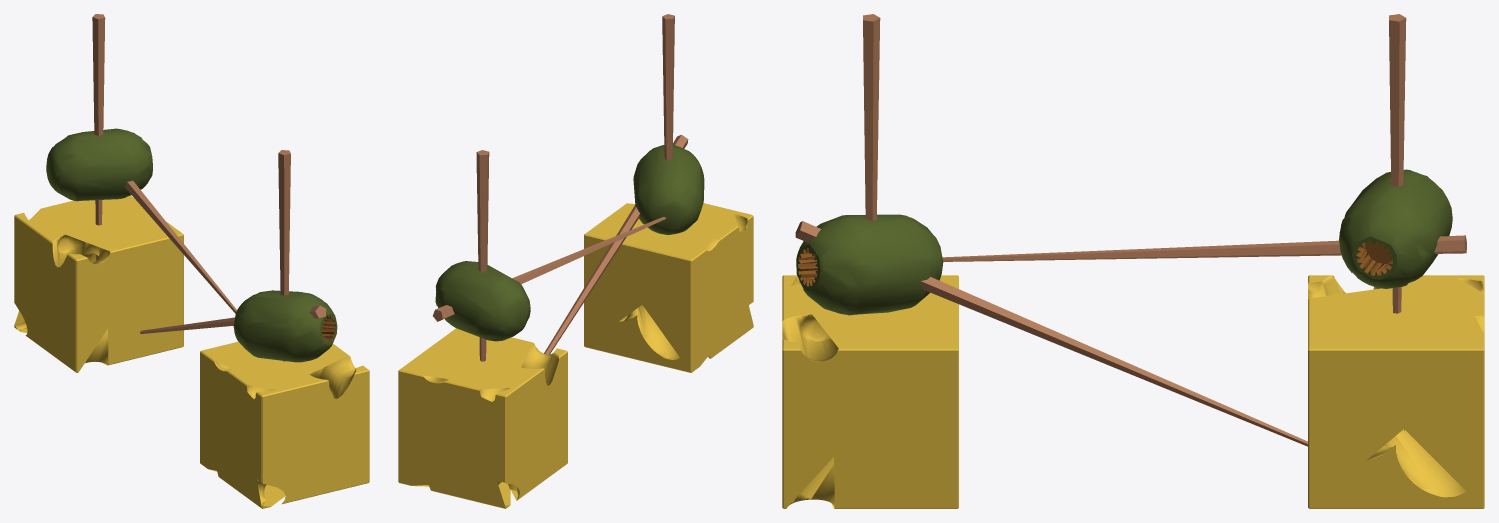
File: Kanape.fbx
3 renders of one model, left to right at view 1: azimuth 30°, elevation 25°; view 2: azimuth 150°, elevation 25°; view 3: azimuth 270°, elevation 25°, orthographic. The views are drawn at different scales.
Parts seen in each view (by area): view 1: Cube.002; view 2: Cube.002; view 3: Cube.002.
Part boxes in pixels (x1,y1,x2,y2): Cube.002: (14,14,369,508); Cube.002: (398,14,753,508); Cube.002: (782,14,1484,508).
Size of the model in its own units: 2 by 5.67 by 7.94.
